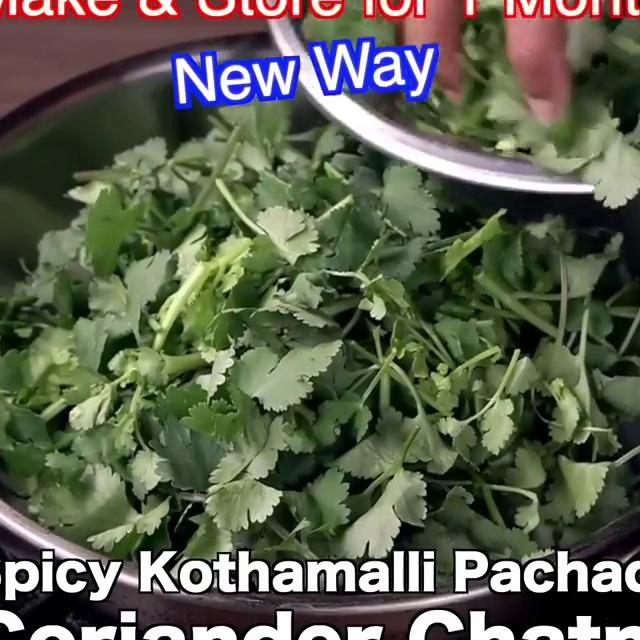cilantro: (0, 205, 640, 522)
